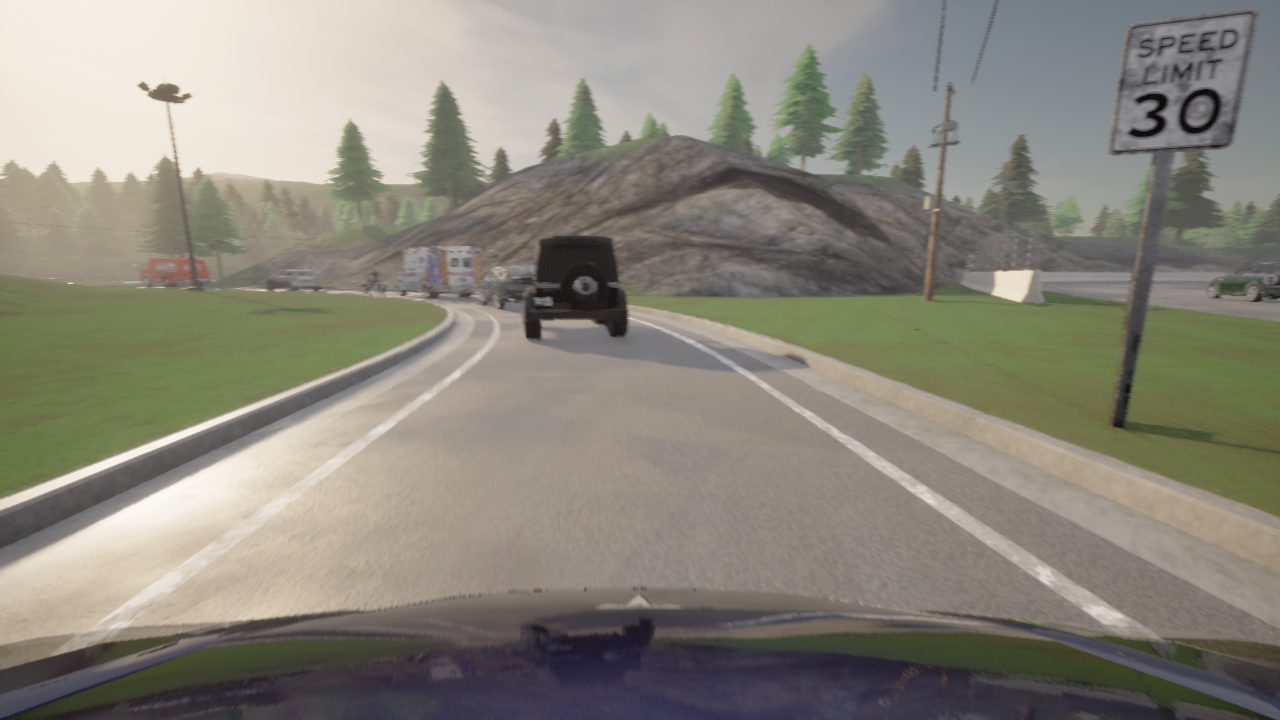cyclist: (0, 588, 1279, 719), (522, 235, 627, 339), (394, 246, 483, 298), (1207, 262, 1279, 301), (478, 264, 534, 309), (134, 258, 210, 287), (265, 269, 320, 291), (361, 274, 386, 293)
